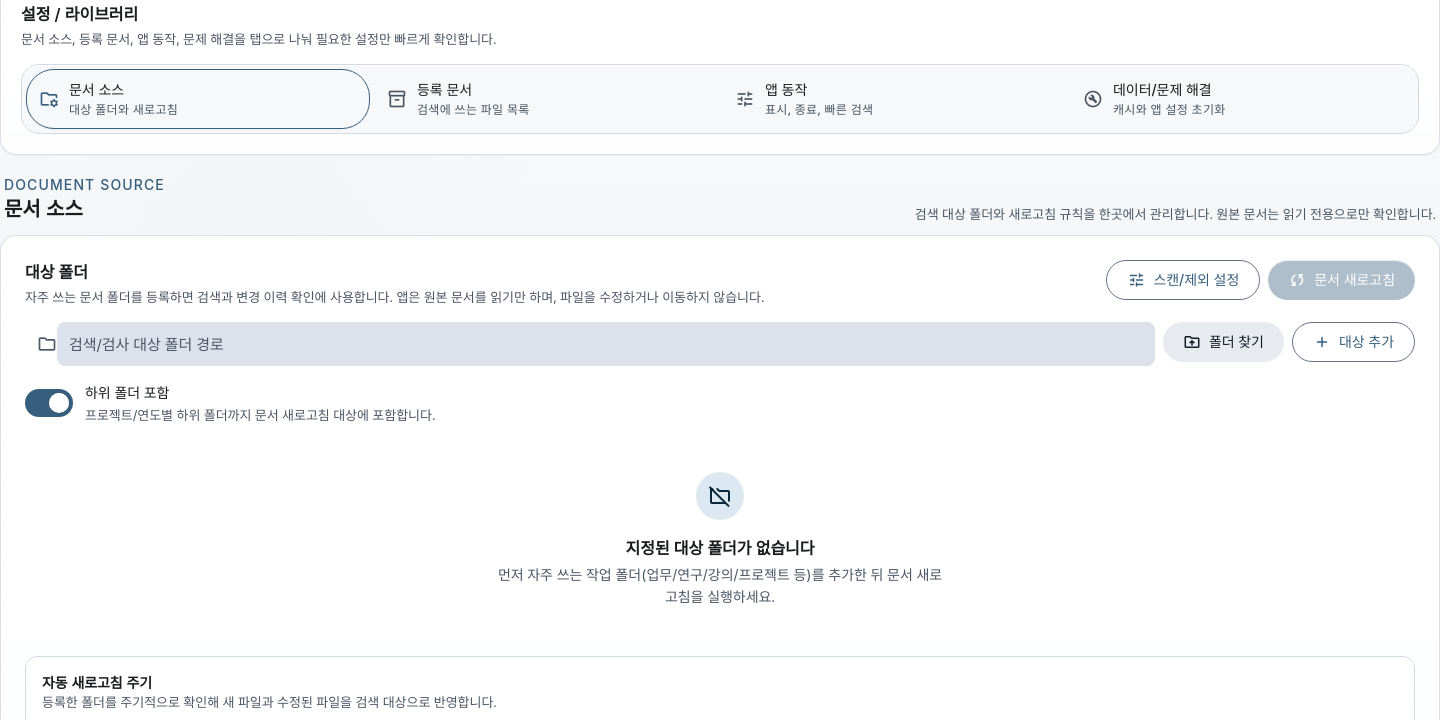
Test: FileManager › startup settings › shows approval guidance when startup settings require system approval
This screenshot has width=1440, height=720.
Click the tab "앱 동작 표시, 종료, 빠른 검색".
click(786, 90)  # box [722, 69, 1066, 129]
(page scrolled)
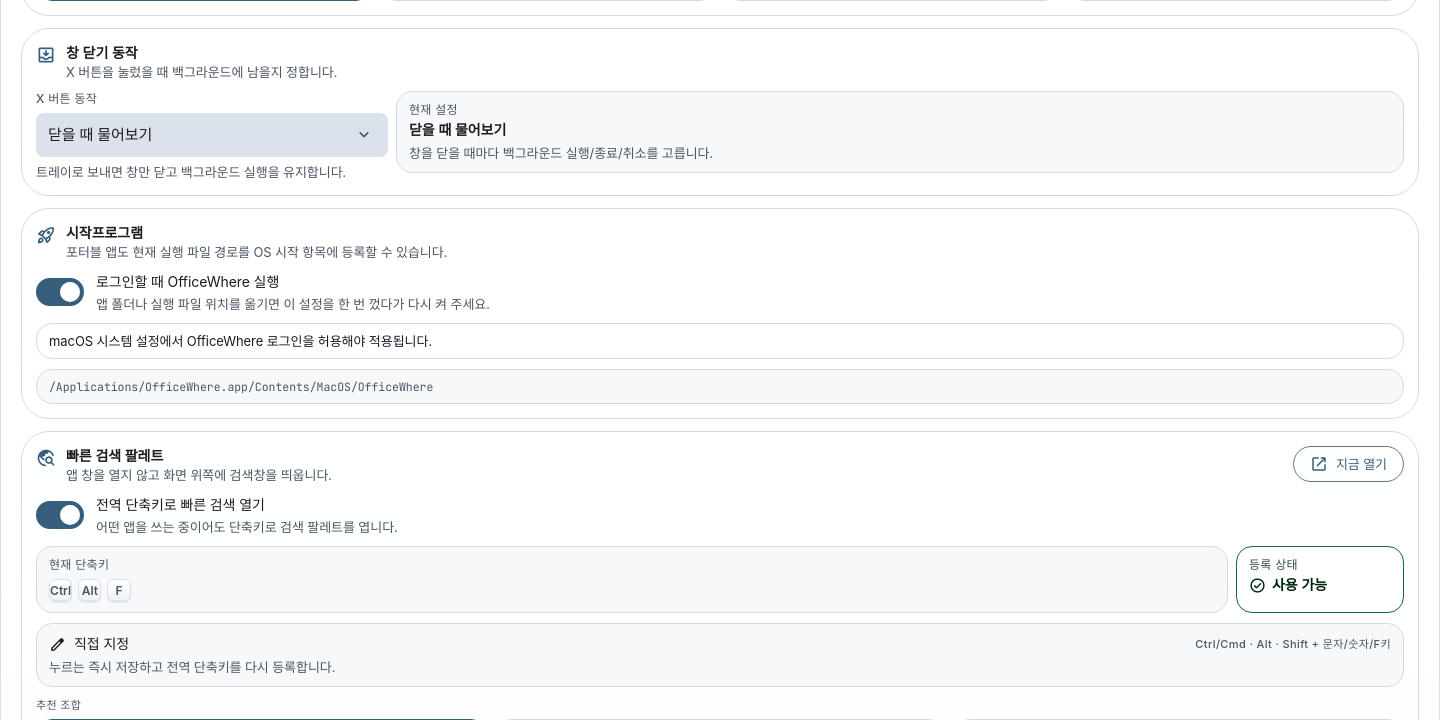
Check: the text "시작프로그램" is shown, box [66, 224, 143, 241]
Check: the text "macOS 시스템 설정에서 OfficeWhere 로그인을 허용해야 적용됩니다." is shown, box [36, 323, 1404, 359]
Check: the text "/Applications/OfficeWhere.app/Contents/MacOS/OfficeWhere" is shown, box [36, 369, 1404, 404]
